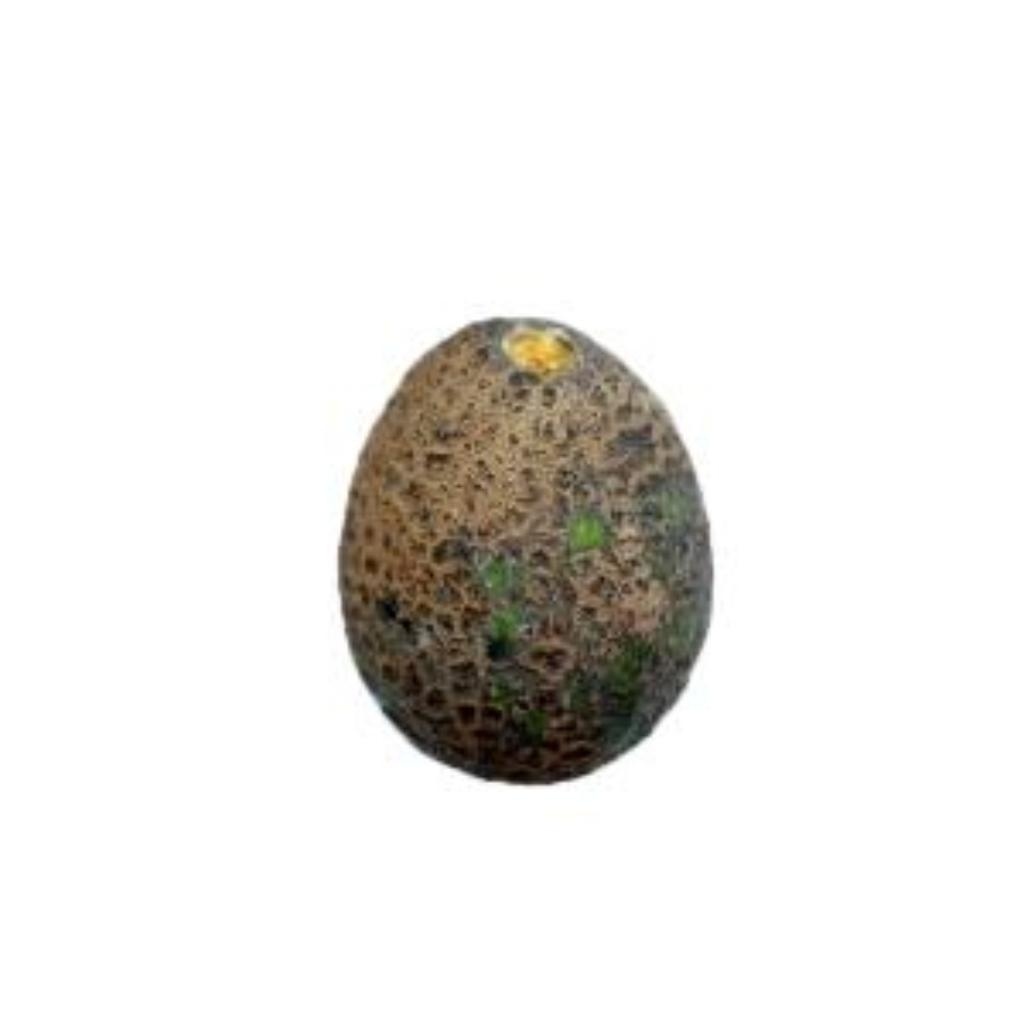cercospora_spot: (316, 295, 718, 783)
